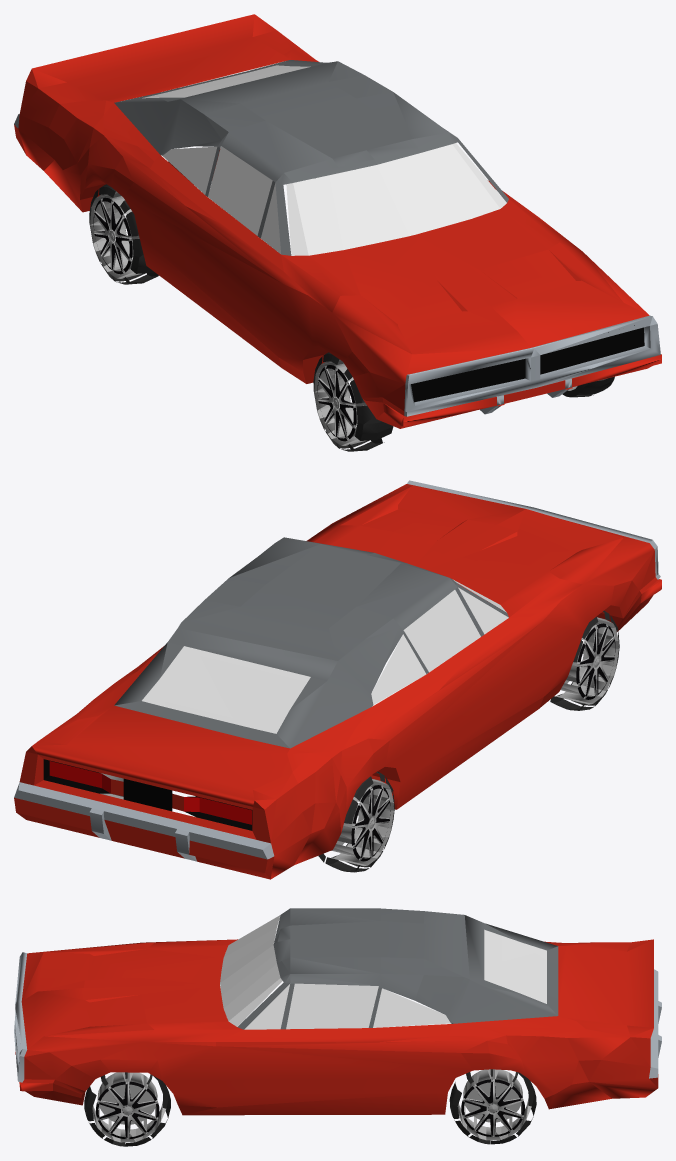
File: car-charger.glb
3 views of the same model, one above another, from view 1: azimuth 30°, elevation 25°; view 2: azimuth 150°, elevation 25°; view 3: azimuth 270°, elevation 25° (orthographic). The views are drawn at different scales.
Visible parts, largest first — view 1: Plane_Plane.002, Circle.002, Circle.001; view 2: Plane_Plane.002, Circle.001, Circle.002; view 3: Plane_Plane.002, Circle.004, Circle.003.
Boxes of the visible parts, x1=… form: Plane_Plane.002: x1=14, y1=14, x2=661, y2=428; Circle.002: x1=313, y1=352, x2=393, y2=451; Circle.001: x1=89, y1=184, x2=158, y2=284; Plane_Plane.002: x1=14, y1=480, x2=661, y2=879; Circle.001: x1=318, y1=771, x2=394, y2=872; Circle.002: x1=550, y1=610, x2=619, y2=710; Plane_Plane.002: x1=14, y1=908, x2=661, y2=1115; Circle.004: x1=449, y1=1069, x2=536, y2=1144; Circle.003: x1=84, y1=1072, x2=170, y2=1146.
Bounding box in the file's own units: 2.55 × 1.77 × 6.48.
